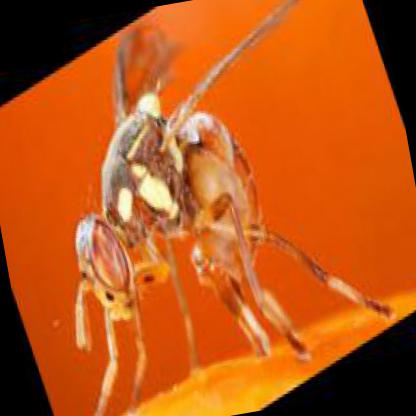fruit fly: (71, 0, 393, 416)
